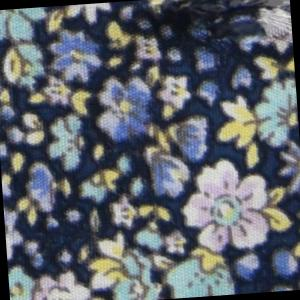Damage: (115, 1, 294, 57)
